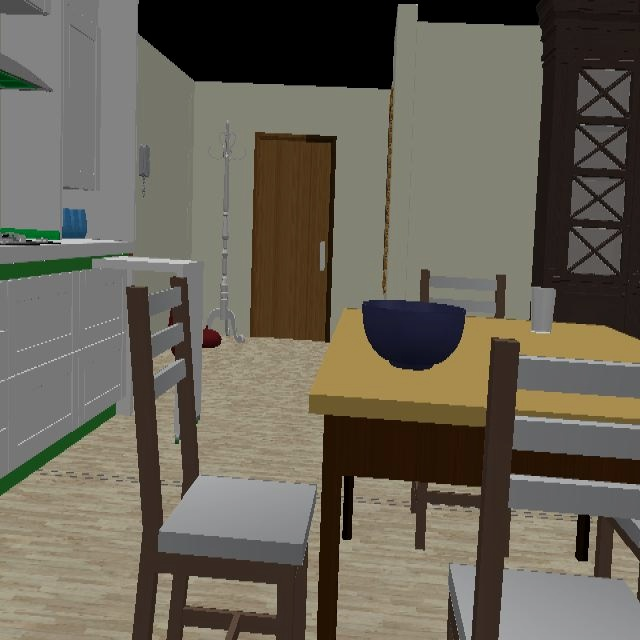cabinet: (0, 270, 128, 478), (62, 0, 99, 189)
chair: (128, 277, 316, 638), (449, 337, 640, 638)
stove: (0, 232, 49, 245)
table: (309, 310, 640, 638), (511, 450, 640, 482), (516, 390, 640, 422)
